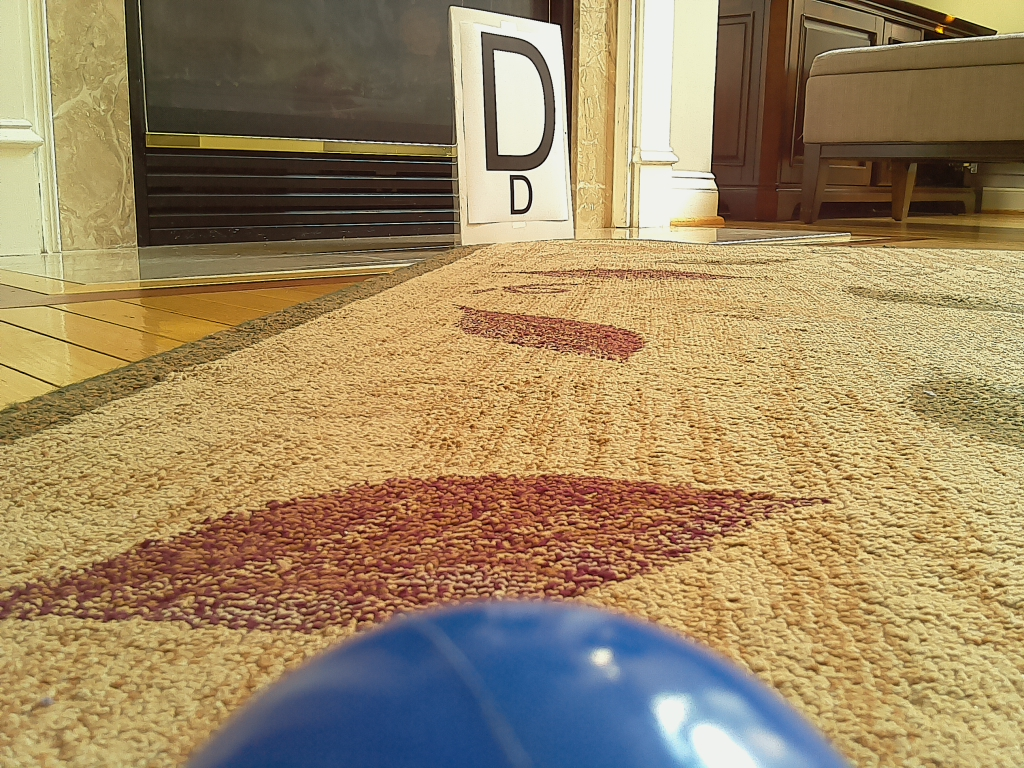letter: (486, 29, 555, 171)
